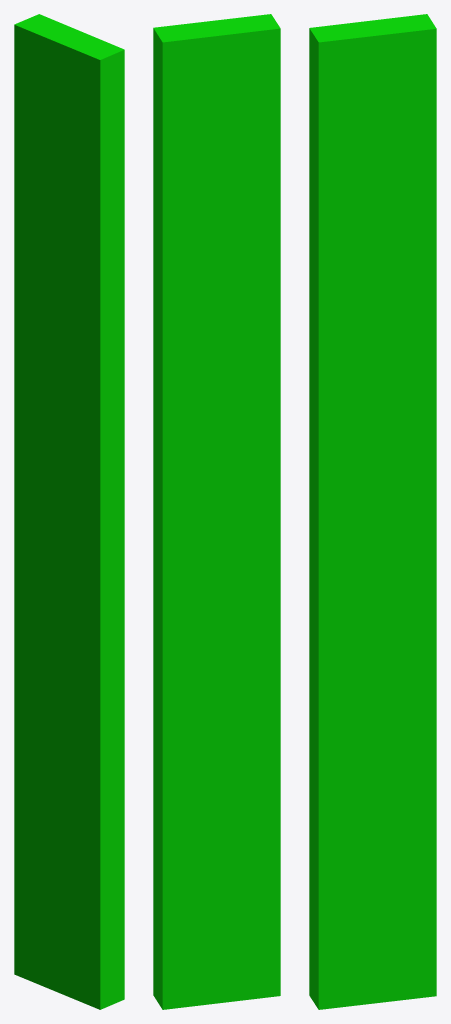
The picture shows the model from 3 angles, left to right: view 1: azimuth 90°, elevation 25°; view 2: azimuth 150°, elevation 25°; view 3: azimuth 330°, elevation 25°; orthographic projection.
Parts seen in each view (by area): view 1: Cube.037; view 2: Cube.037; view 3: Cube.037.
Part boxes in pixels (x1,y1,x2,y2): Cube.037: (14,14,124,1009); Cube.037: (153,14,280,1009); Cube.037: (309,14,436,1009).
Bounding box in the file's own units: 1088 × 10440 × 1102.
